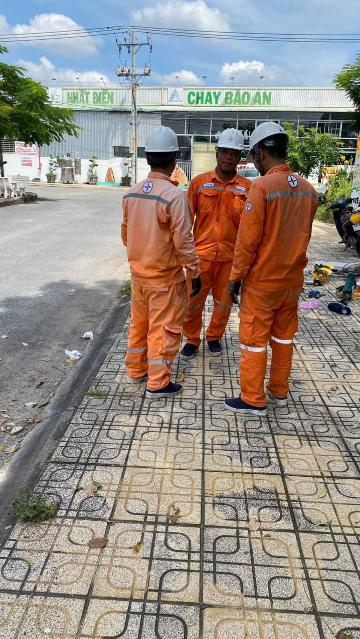gloves: (217, 272, 259, 301), (181, 271, 206, 307)
helmet: (238, 117, 303, 159), (123, 127, 190, 163), (208, 120, 246, 161)
shoes: (214, 384, 283, 436), (138, 378, 195, 405), (266, 375, 303, 414), (206, 329, 232, 367), (174, 338, 208, 364)
